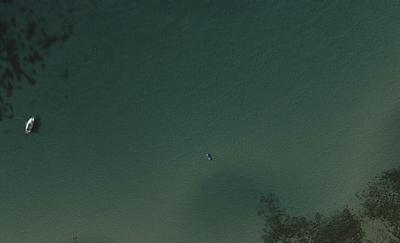Ships: (23, 111, 45, 144), (199, 148, 215, 168)
